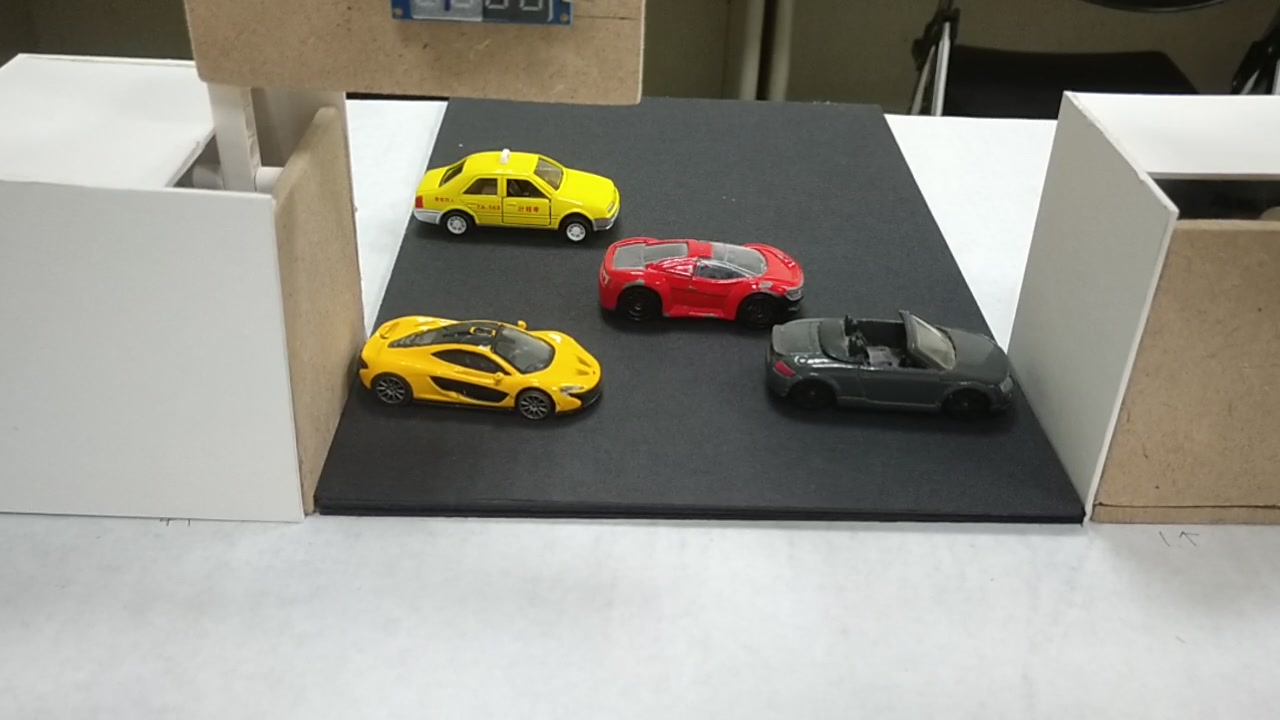car: (761, 318, 1018, 418), (353, 313, 604, 414), (601, 236, 801, 318), (415, 160, 614, 229)
